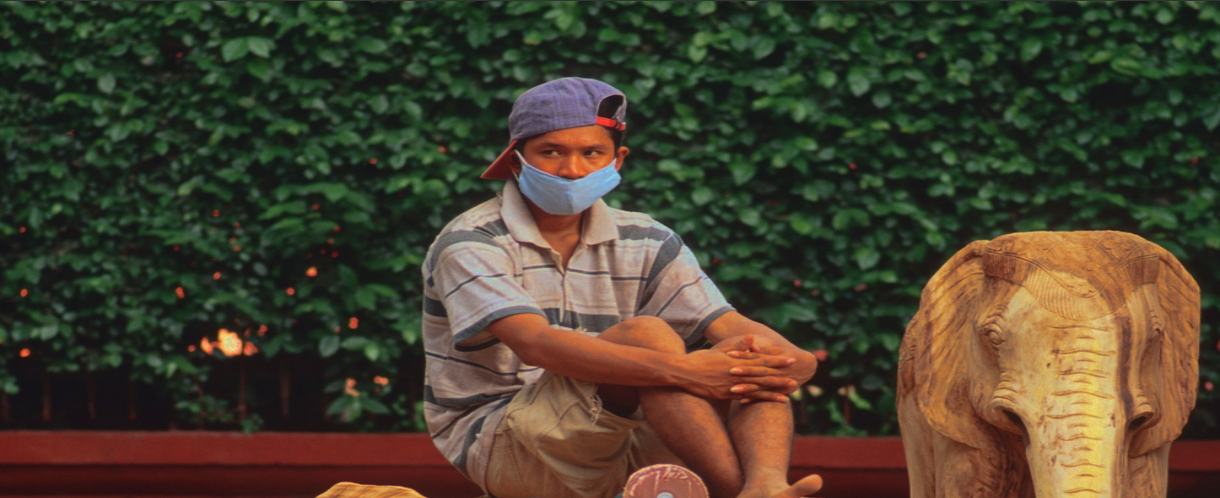mask_weared_incorrect: (488, 75, 634, 227)
